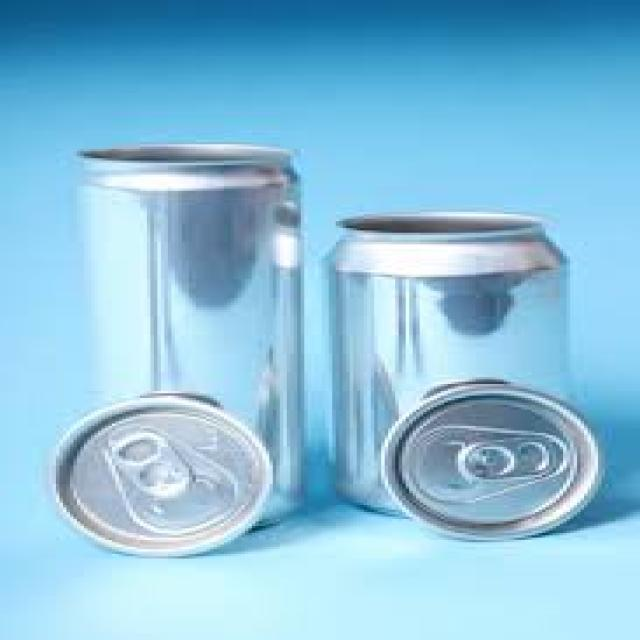Cans: (70, 142, 308, 533), (322, 207, 577, 526)
